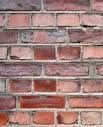brick: (19, 94, 65, 108), (21, 29, 66, 42), (46, 63, 88, 76), (69, 29, 103, 45), (1, 63, 42, 75), (68, 96, 103, 108), (1, 1, 42, 11), (43, 1, 87, 10), (6, 79, 33, 93), (6, 14, 30, 27), (31, 14, 55, 26), (58, 79, 80, 92), (81, 111, 103, 124), (32, 112, 55, 123), (1, 29, 19, 43), (35, 80, 56, 92), (80, 14, 102, 25), (82, 80, 102, 92), (57, 112, 77, 124), (10, 48, 31, 59), (81, 47, 102, 58), (59, 48, 79, 59), (34, 48, 55, 58), (56, 15, 79, 24), (8, 113, 31, 122), (1, 94, 16, 107), (89, 1, 103, 11), (1, 47, 7, 59), (96, 64, 103, 74)
